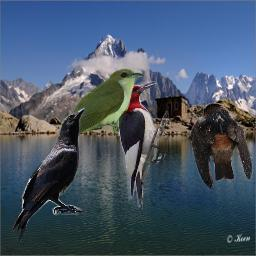Crow: (12, 107, 86, 241)
Cuckoo: (32, 68, 145, 186)
Swallow: (190, 103, 253, 190)
Woodpecker: (115, 81, 169, 210)
